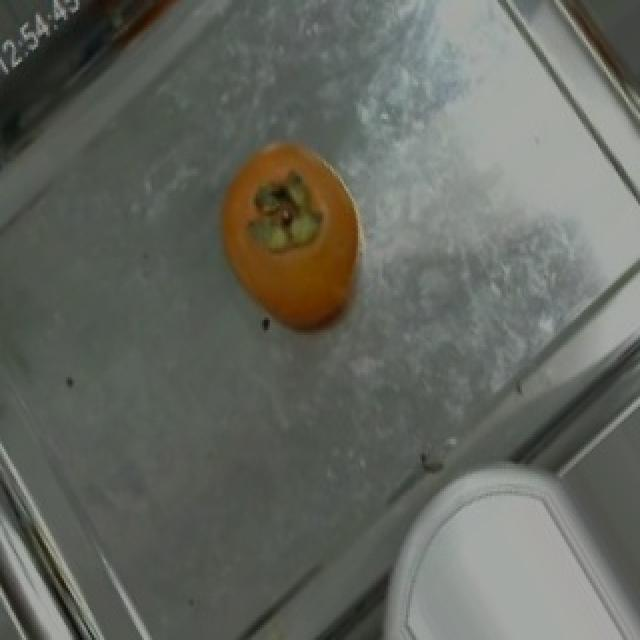Fruit: (198, 119, 392, 357), (382, 466, 632, 640)
